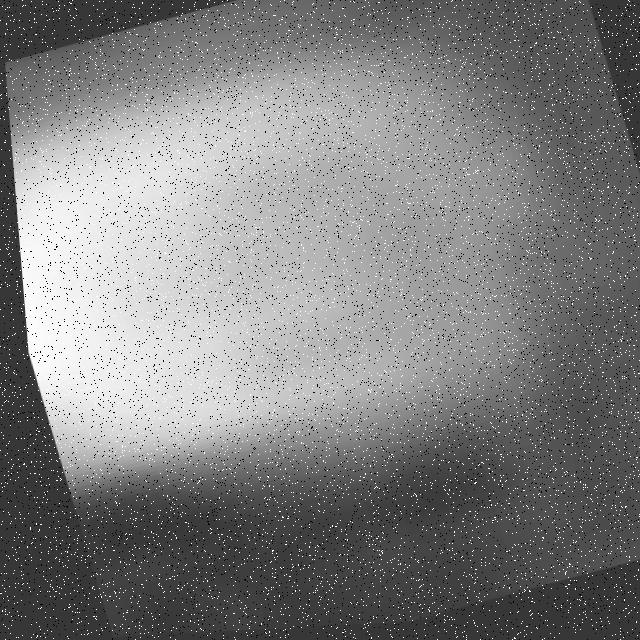person: (3, 11, 596, 540)
